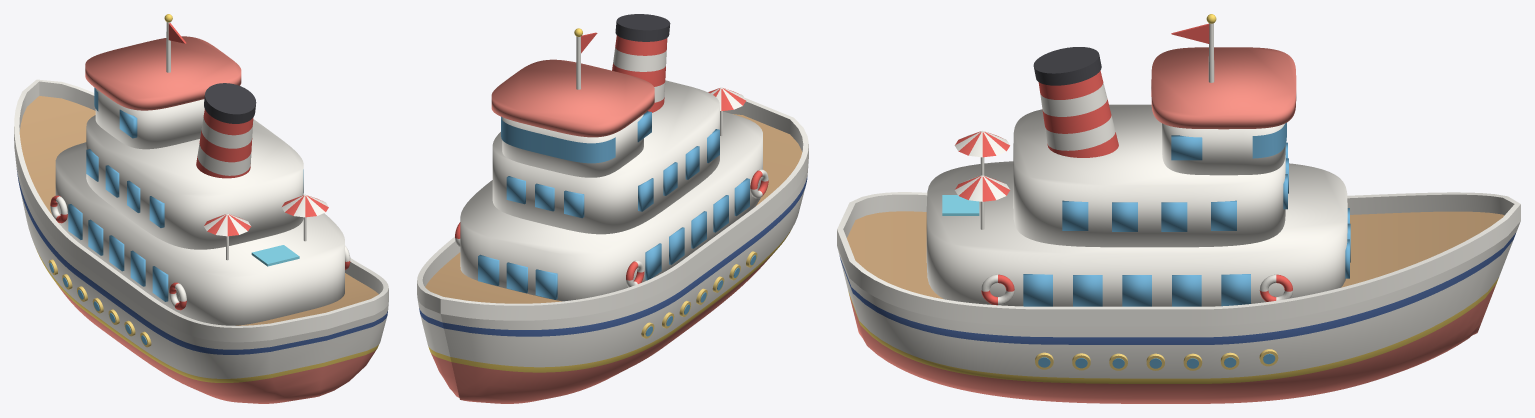
The model's file is Ship.glb.
3 views of the same model, side by side, from view 1: azimuth 30°, elevation 25°; view 2: azimuth 150°, elevation 25°; view 3: azimuth 270°, elevation 25° (orthographic). The views are drawn at different scales.
Visible parts, largest first — view 1: Hull.001, Deck1, Deck2, Bulwark, BridgeRoof, Funnel.001, Windows.001, Bridge.001, Umbrella_R, Umbrella_L, Pool.001, Lifebuoy_L1 (+1 smaller); view 2: Hull.001, Deck1, Deck2, Bulwark, BridgeRoof, Windows.001, Funnel.001, Bridge.001, BridgeGlass, Umbrella_L, Lifebuoy_L1, Lifebuoy_L0; view 3: Hull.001, Deck1, Deck2, Bulwark, BridgeRoof, Windows.001, Funnel.001, Bridge.001, Umbrella_R, Umbrella_L, BridgeGlass, Pool.001 (+1 smaller).
Boxes of the visible parts, bbox=[...] form: Hull.001: bbox=[15, 96, 388, 403]; Deck1: bbox=[55, 142, 344, 325]; Deck2: bbox=[86, 115, 303, 249]; Bulwark: bbox=[14, 79, 388, 342]; BridgeRoof: bbox=[85, 36, 241, 110]; Funnel.001: bbox=[196, 83, 256, 178]; Windows.001: bbox=[68, 109, 303, 301]; Bridge.001: bbox=[95, 88, 204, 149]; Umbrella_R: bbox=[281, 194, 328, 241]; Umbrella_L: bbox=[204, 213, 251, 260]; Pool.001: bbox=[251, 245, 299, 266]; Lifebuoy_L1: bbox=[169, 282, 186, 310]; Hull.001: bbox=[417, 114, 808, 403]; Deck1: bbox=[460, 112, 762, 301]; Deck2: bbox=[492, 80, 719, 234]; Bulwark: bbox=[417, 98, 808, 320]; BridgeRoof: bbox=[491, 59, 654, 137]; Windows.001: bbox=[478, 111, 749, 299]; Funnel.001: bbox=[612, 14, 670, 112]; Bridge.001: bbox=[502, 114, 643, 177]; BridgeGlass: bbox=[501, 116, 615, 163]; Umbrella_L: bbox=[708, 87, 746, 135]; Lifebuoy_L1: bbox=[750, 169, 768, 198]; Lifebuoy_L0: bbox=[626, 260, 644, 287]; Hull.001: bbox=[837, 211, 1520, 403]; Deck1: bbox=[926, 161, 1347, 306]; Deck2: bbox=[1013, 104, 1285, 247]; Bulwark: bbox=[837, 192, 1520, 326]; BridgeRoof: bbox=[1151, 47, 1296, 129]; Windows.001: bbox=[1023, 135, 1350, 306]; Funnel.001: bbox=[1033, 47, 1118, 157]; Bridge.001: bbox=[1162, 123, 1285, 175]; Umbrella_R: bbox=[955, 175, 1009, 229]; Umbrella_L: bbox=[954, 131, 1010, 175]; BridgeGlass: bbox=[1252, 122, 1286, 158]; Pool.001: bbox=[942, 195, 979, 215].
Bounding box in the file's own units: 4.23 × 6.58 × 11.05.
